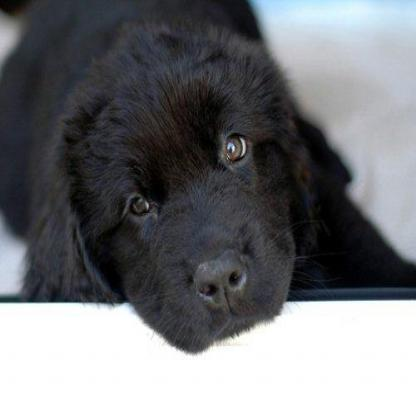Newfoundland: (0, 0, 414, 355)
